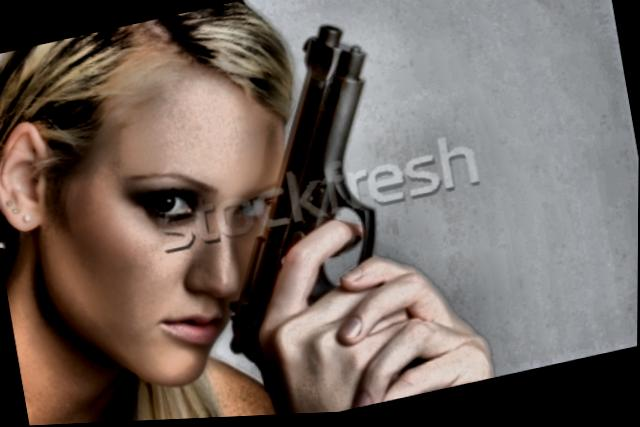pistol: (162, 1, 421, 384)
